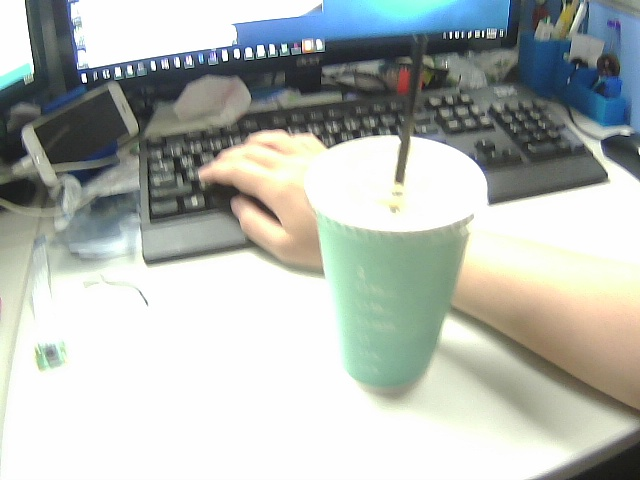beverage: (298, 23, 504, 415)
